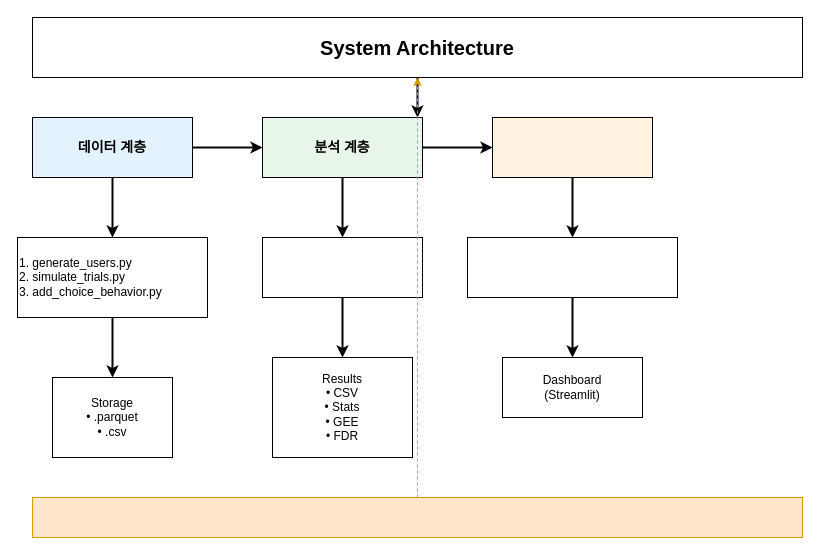
Some shapes in this 820 by 555 pixel diagram are drawn without their labels. Each missing label, with the box of its shape:
config.py (Central Parameter Management): (32, 496, 802, 538)
• basic_tests.py • mixed_models.py: (262, 236, 422, 298)
• visualization.py • 8개 차트 (PNG): (466, 236, 678, 298)
시각화 계층: (492, 116, 652, 178)
